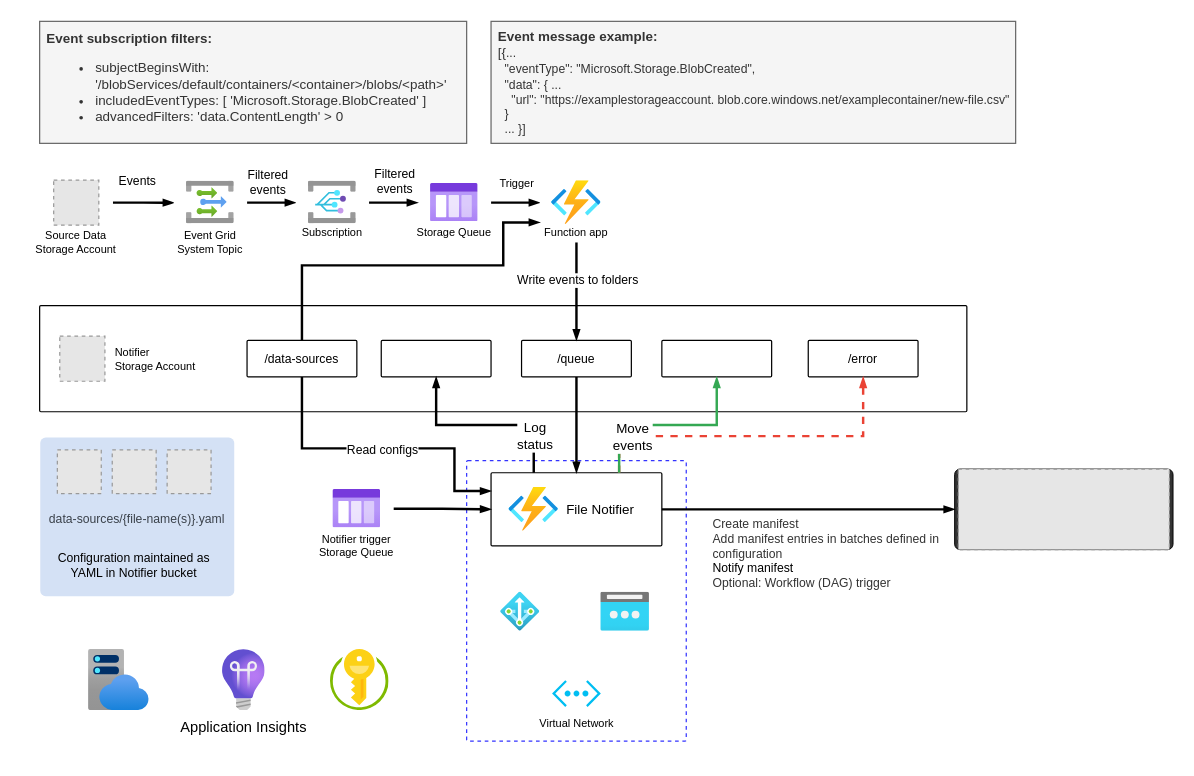
The diagram is 1194 pixels wide and 776 high, and some of its shapes have lost their labels. Grey dashed boxes stand in for pictures. Each missing label, with the centre of its shape:
"/notified" belongs at (x=716, y=358).
"/status" belongs at (x=435, y=358).
"App Service Plan" belongs at (x=118, y=679).
"Key Vault" belongs at (x=359, y=679).
"NAT Gateway" belongs at (x=519, y=611).
"Public IP Address" belongs at (x=624, y=611).
